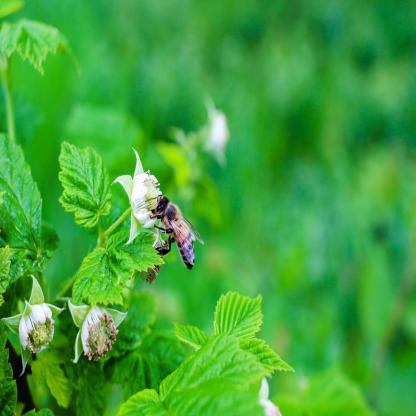Raspberry leaf: (121, 335, 265, 415), (54, 137, 114, 227), (214, 290, 264, 348)
